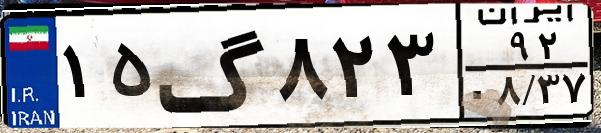0: (470, 70, 495, 125)
1: (57, 26, 110, 100)
2: (330, 28, 385, 110), (537, 27, 568, 80)
3: (385, 28, 445, 110), (535, 70, 560, 125)
5: (110, 28, 156, 98)
7: (560, 70, 590, 125)
8: (270, 28, 330, 110), (495, 70, 520, 125)
9: (508, 27, 537, 80)
گ: (156, 12, 270, 120)
